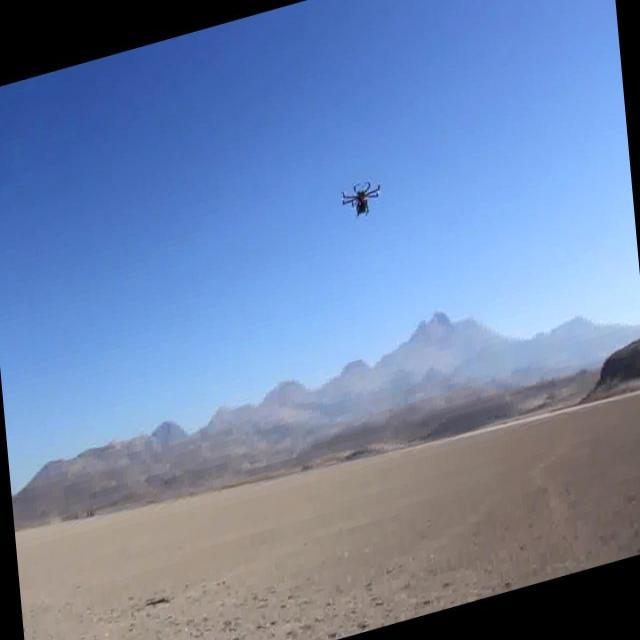drone: (337, 168, 385, 226)
